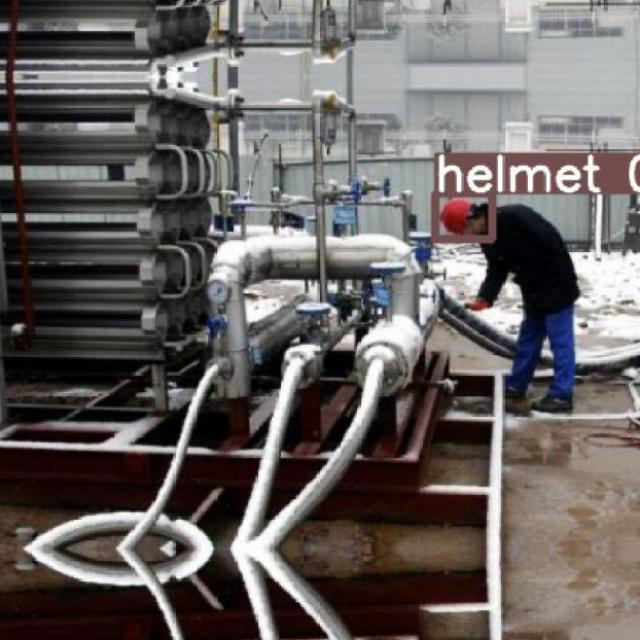helmet: (440, 198, 470, 234)
